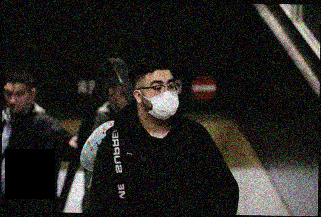with_mask: (142, 76, 181, 121)
without_mask: (2, 85, 26, 115)
